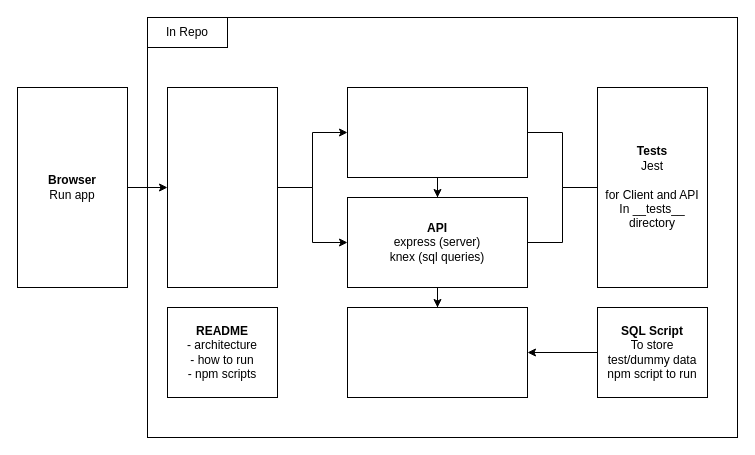
Image size: 755x455. Some labels were removed from this diagram. Each missing label, with the centre of its shape:
Client React App Material UI Components React Router Webpack: the point at 437,132
DB sqlite3 file: the point at 437,352
Dev Server Express with webpack middleware: the point at 222,187
